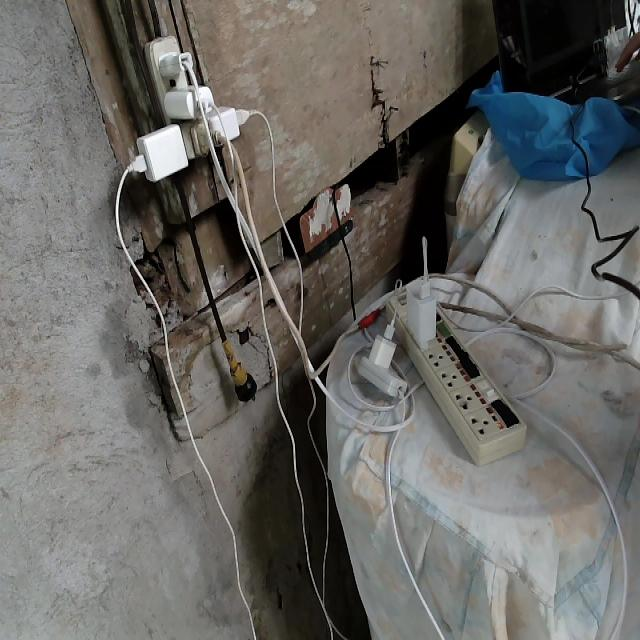-: (127, 31, 251, 181)
